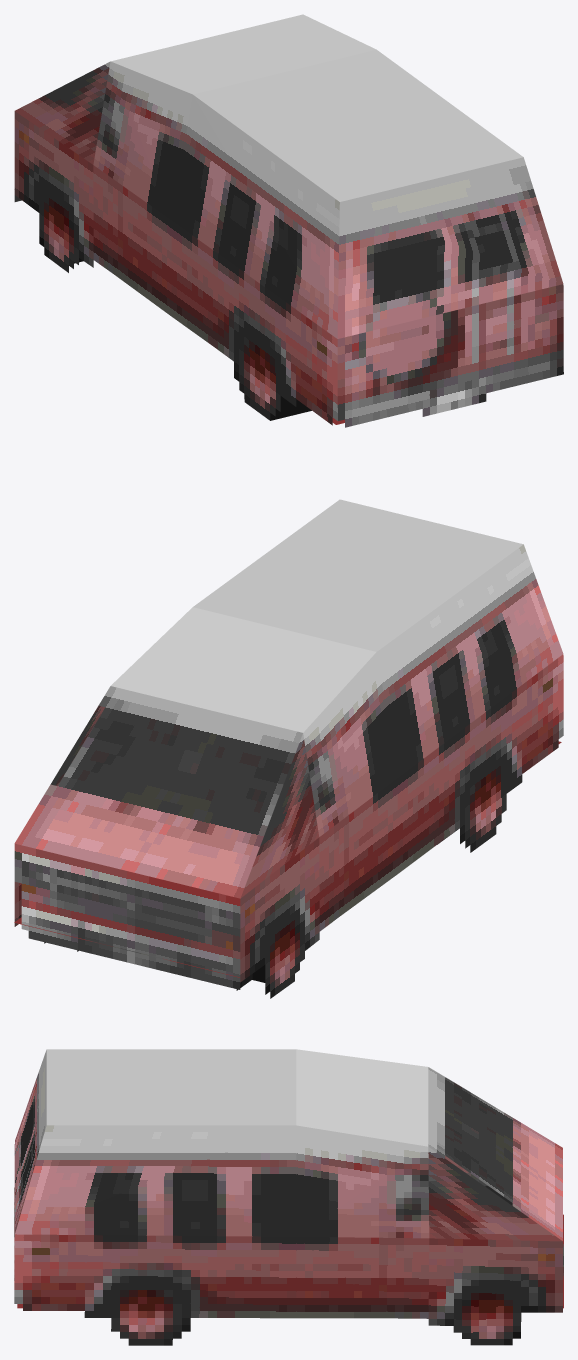
File: car-vandura-plt1.glb
The picture shows the model from 3 angles, top to bottom: view 1: azimuth 30°, elevation 25°; view 2: azimuth 150°, elevation 25°; view 3: azimuth 270°, elevation 25°; orthographic projection. The views are drawn at different scales.
Parts seen in each view (by area): view 1: car-vandura-plt1; view 2: car-vandura-plt1; view 3: car-vandura-plt1.
Part boxes in pixels (x1,y1,x2,y2): car-vandura-plt1: (14,14,563,427); car-vandura-plt1: (14,499,563,998); car-vandura-plt1: (14,1049,563,1345).
Size of the model in its own units: 2.02 by 2.12 by 5.01.
16 materials, 16 textured.
